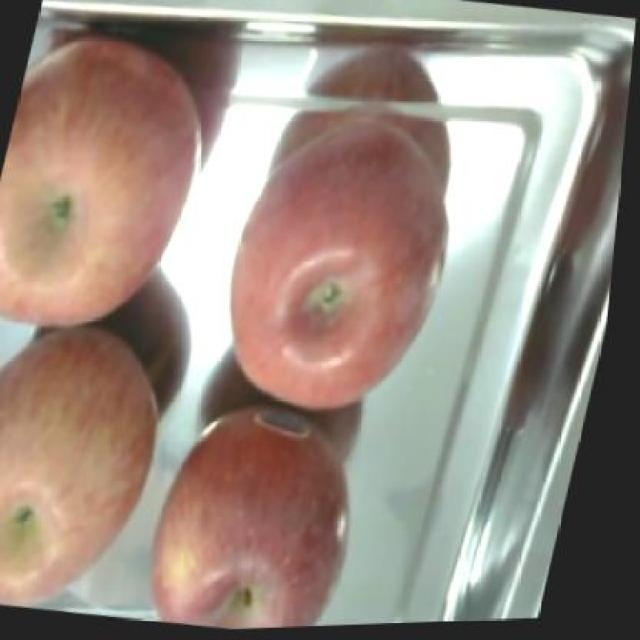Fresh Apple: (0, 0, 195, 338), (234, 123, 451, 422), (0, 332, 143, 608), (170, 409, 338, 640)
